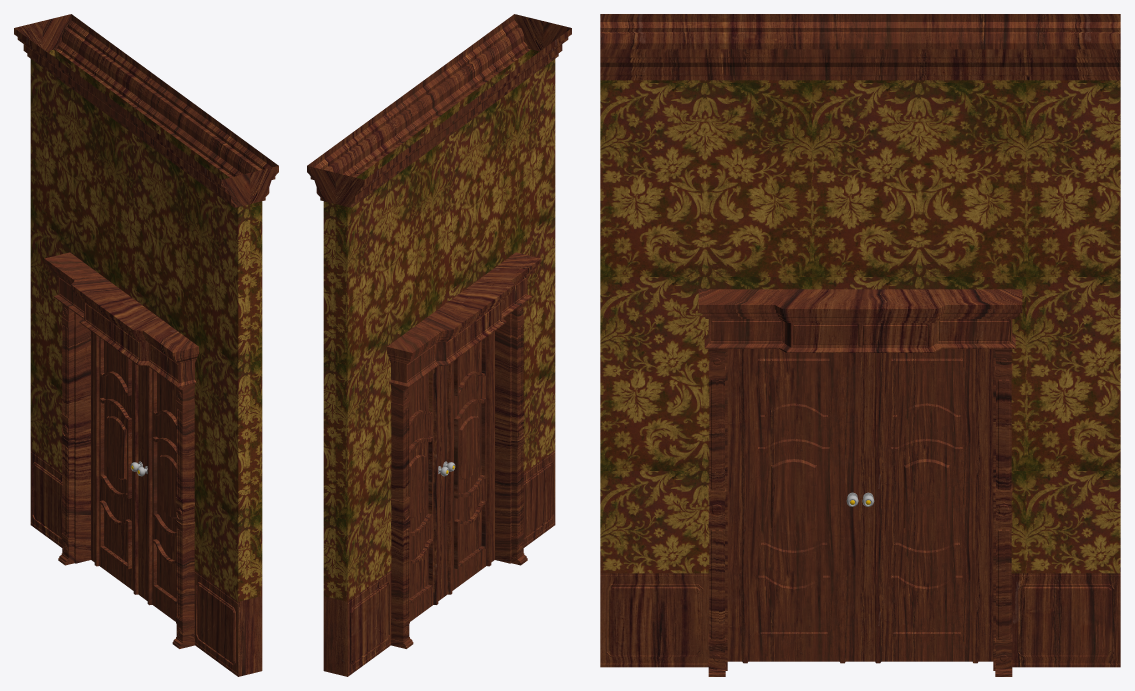
File: Pintu_2_Daun_Interactable.fbx
The picture shows the model from 3 angles, left to right: view 1: azimuth 30°, elevation 25°; view 2: azimuth 150°, elevation 25°; view 3: azimuth 270°, elevation 25°; orthographic projection. The views are drawn at different scales.
Parts seen in each view (by area): view 1: Dinding 2 Pintu, Pintu Interactable.002, Pintu Interactable.001; view 2: Dinding 2 Pintu, Pintu Interactable.001, Pintu Interactable.002; view 3: Dinding 2 Pintu, Pintu Interactable.001, Pintu Interactable.002.
Boxes of the visible parts, <box> form: Dinding 2 Pintu: <box>14,14,278,676</box>; Pintu Interactable.002: <box>91,331,143,598</box>; Pintu Interactable.001: <box>137,366,176,621</box>; Dinding 2 Pintu: <box>307,14,571,676</box>; Pintu Interactable.001: <box>442,331,494,598</box>; Pintu Interactable.002: <box>409,366,448,621</box>; Dinding 2 Pintu: <box>600,14,1120,676</box>; Pintu Interactable.001: <box>727,349,860,663</box>; Pintu Interactable.002: <box>860,349,993,663</box>.
Size of the model in its own units: 74.25 by 400 by 300.
Materials: 4 (2 with a texture image).
